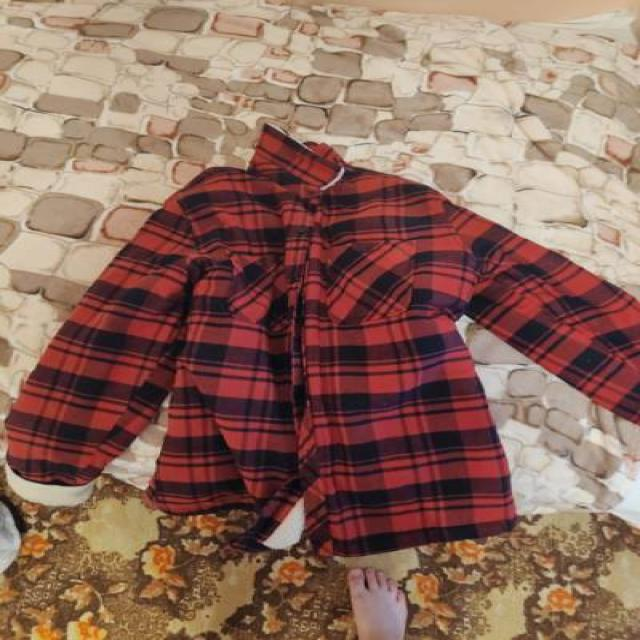Clothes -Biodegradable-: (6, 124, 640, 552)
